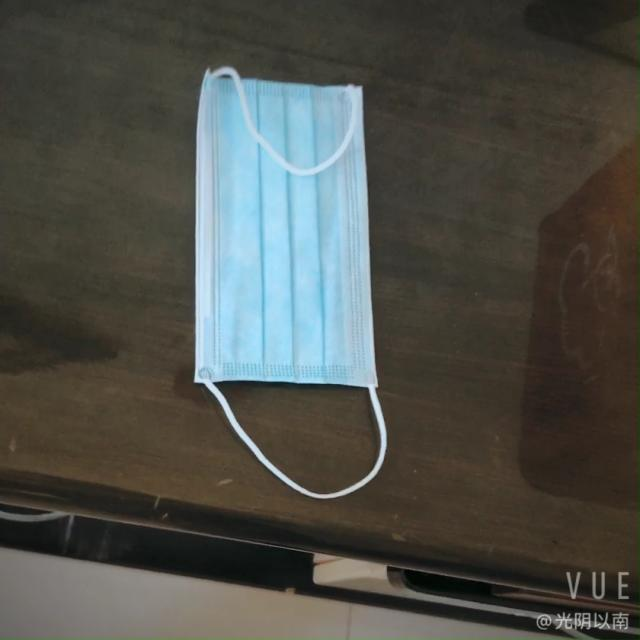non-organic waste: (178, 63, 382, 406)
